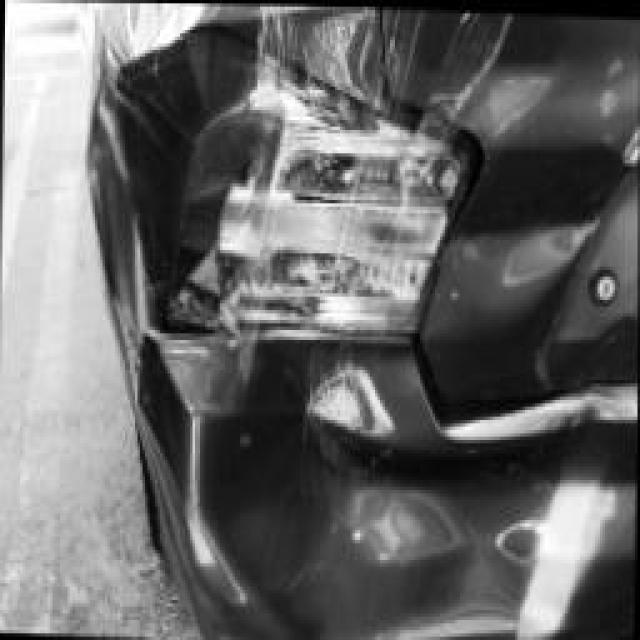Bumper: (142, 333, 638, 640)
Fender: (374, 7, 640, 352)
Light: (158, 77, 455, 349)
